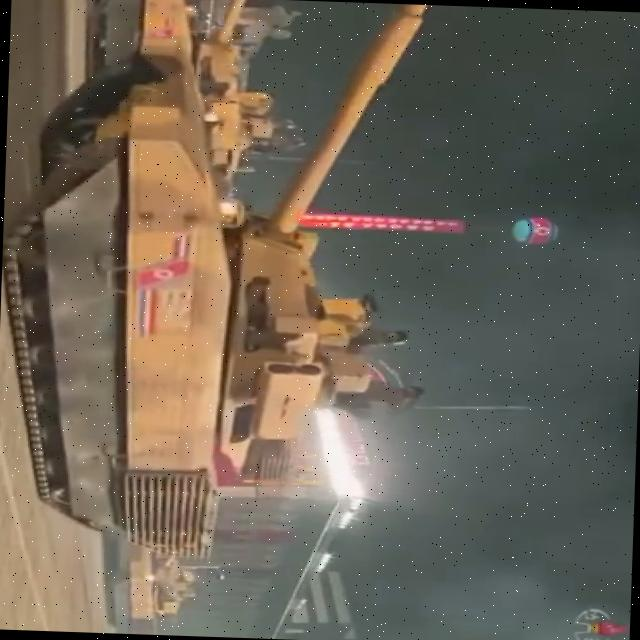north tank: (0, 0, 480, 564), (56, 0, 315, 179), (103, 532, 250, 638)
